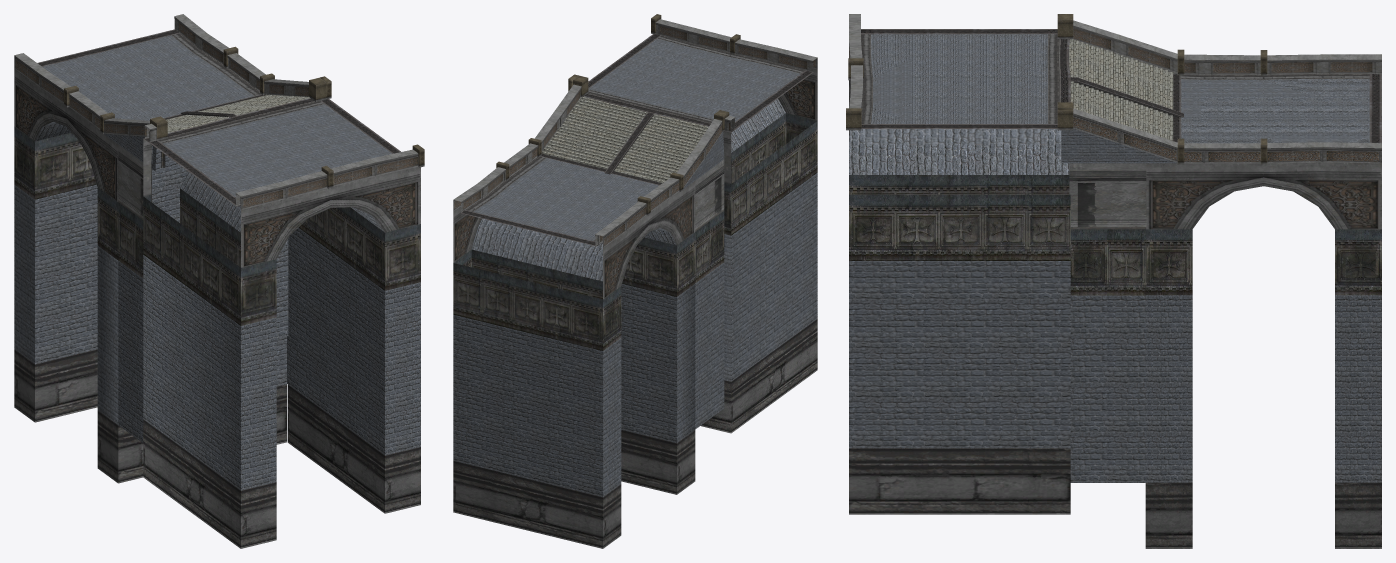
The model's file is BridgeStair.fbx.
3 renders of one model, left to right at view 1: azimuth 30°, elevation 25°; view 2: azimuth 150°, elevation 25°; view 3: azimuth 270°, elevation 25°, orthographic. The views are drawn at different scales.
Visible parts, largest first — view 1: SMO_BG50_ground_LD16_022_ILCA; view 2: SMO_BG50_ground_LD16_022_ILCA; view 3: SMO_BG50_ground_LD16_022_ILCA.
Boxes of the visible parts, x1,y1,x2,y2 form: SMO_BG50_ground_LD16_022_ILCA: [14, 14, 424, 548]; SMO_BG50_ground_LD16_022_ILCA: [453, 14, 817, 548]; SMO_BG50_ground_LD16_022_ILCA: [846, 14, 1381, 548].
Size of the model in its own units: 2588 by 5257 by 5787.
